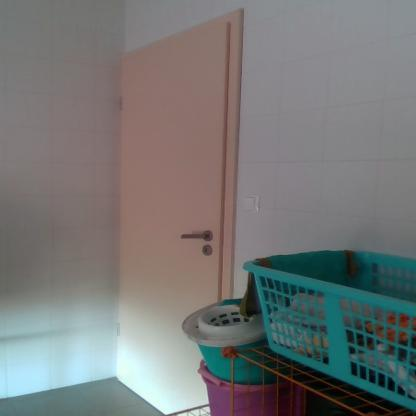door: (118, 62, 226, 416)
hinged: (119, 93, 128, 111), (116, 320, 122, 340)
lever: (177, 231, 214, 240)
